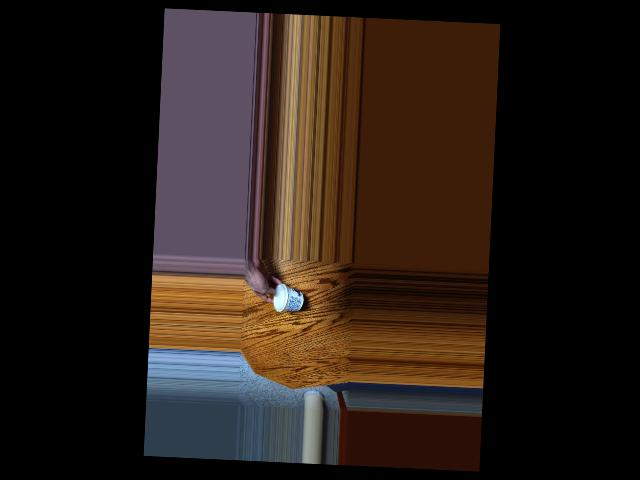cotage: (275, 287, 307, 318)
